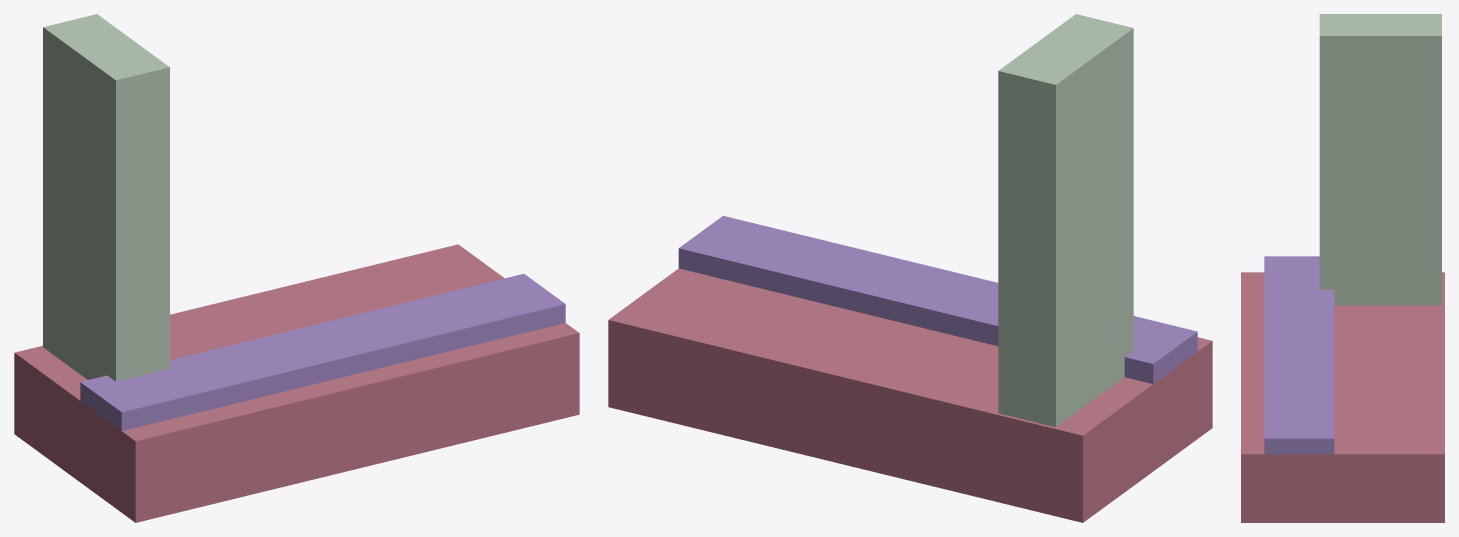
File: 199512_pred.glb
3 renders of one model, left to right at view 1: azimuth 30°, elevation 25°; view 2: azimuth 150°, elevation 25°; view 3: azimuth 270°, elevation 25°, orthographic. The views are drawn at different scales.
Parts seen in each view (by area): view 1: world; view 2: world; view 3: world.
Part boxes in pixels (x1,y1,x2,y2): world: (14,14,579,522); world: (608,14,1212,522); world: (1241,14,1444,522).
Size of the model in its own units: 7.4 by 6.4 by 3.5.
